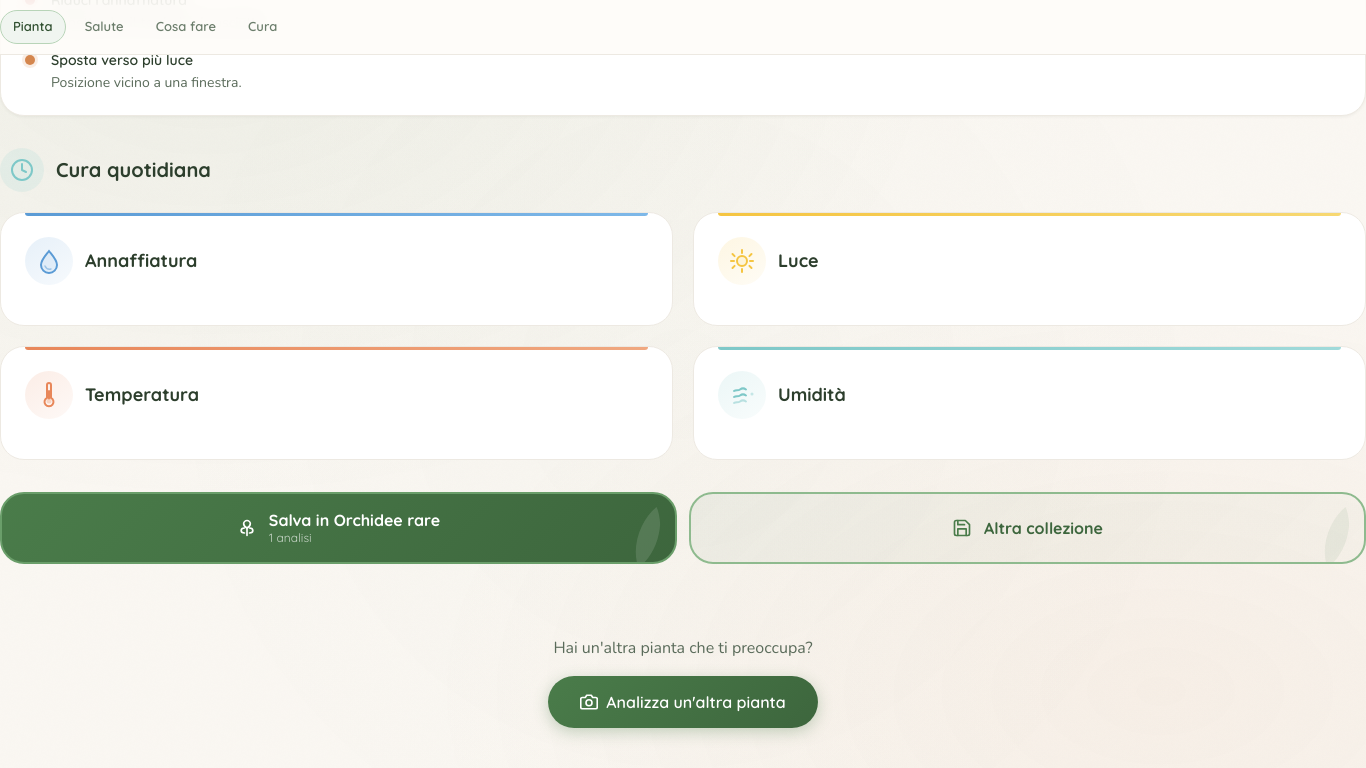
Scenario: Flusso completo: selettore collezione con ricerca e salvataggio › la collezione suggerita viene identificata anche tramite nome scientifico
(page scrolled)
Click the button "Altra collezione".
click(1028, 528)  # box [689, 492, 1365, 564]
(page scrolled)
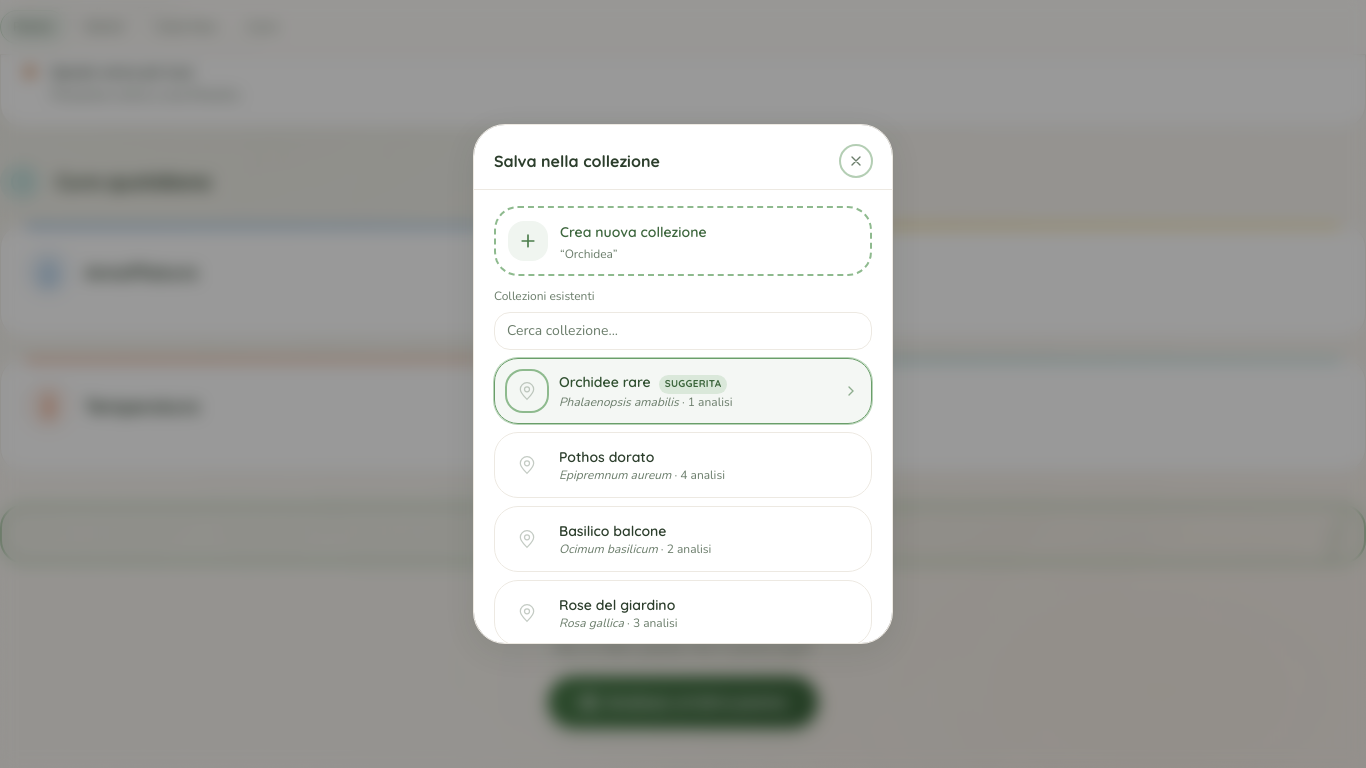
Expected: the text "Collezioni esistenti" is shown, [494, 288, 594, 304]
Expected: the text "Suggerita" is shown, [659, 375, 728, 394]
Expected: the button "Orchidee rare Suggerita Phalaenopsis amabilis · 1 analisi" is shown, [494, 358, 872, 424]
